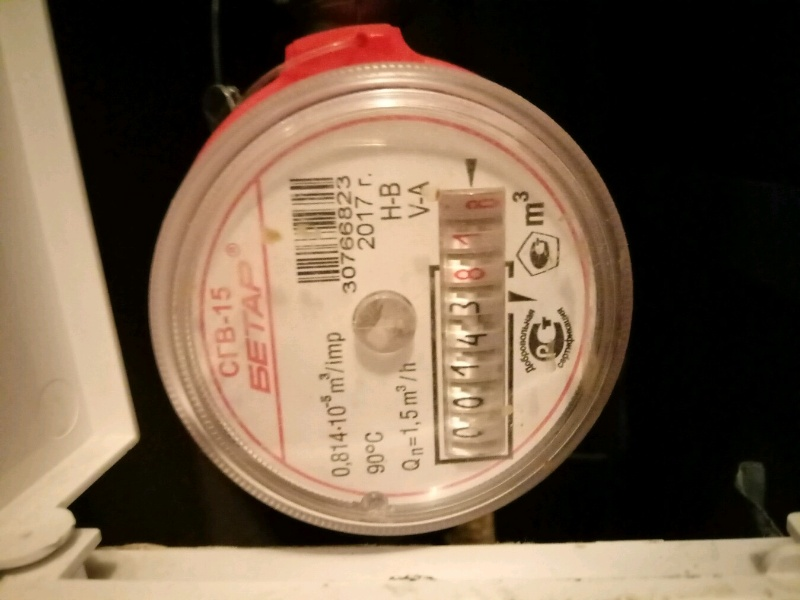meter: (436, 186, 504, 454)
